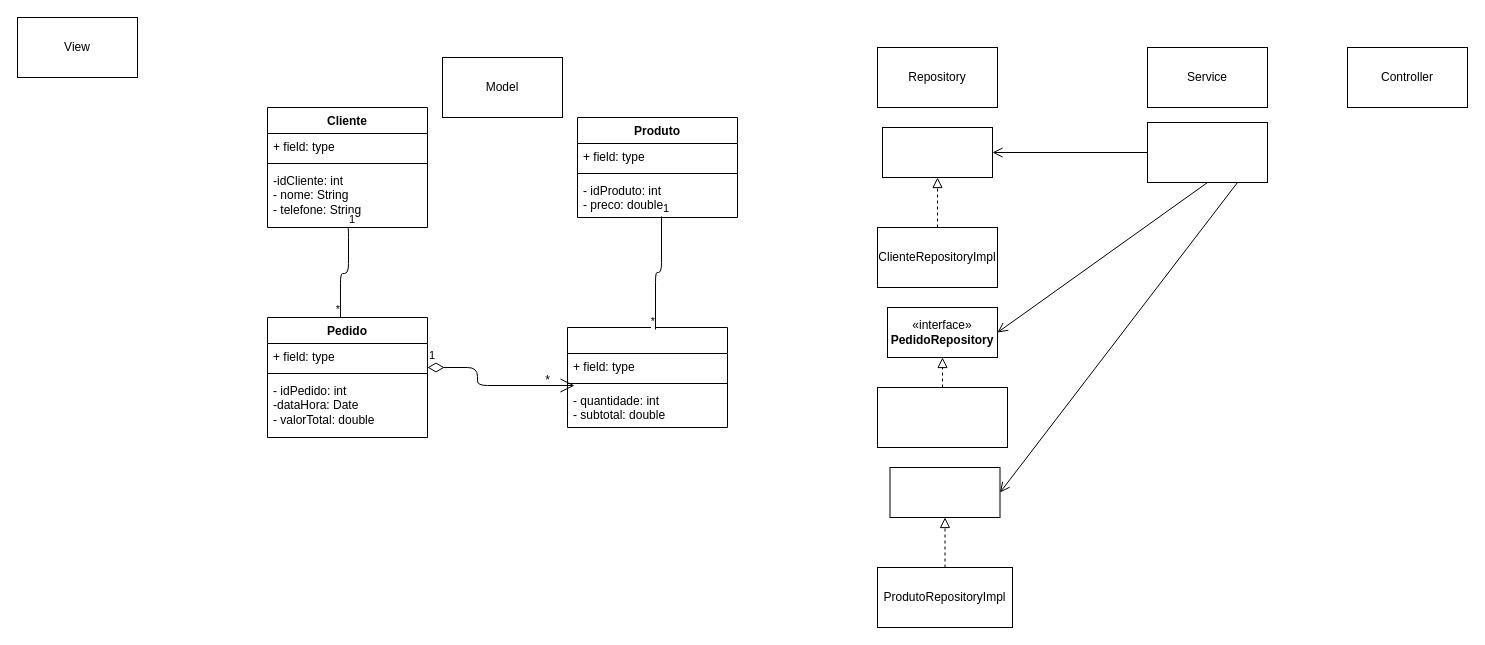
This 1485x645 diagram has some shape labels left out. Here are the shapes that lost their labels. From the top down, the box of each, then its label:
(882, 126, 992, 178): «interface» ClienteRepository
(1146, 122, 1268, 182): PedidoService
(566, 326, 728, 428): ItemPedido
(876, 386, 1008, 448): PedidoRepositoryImpl
(889, 466, 1000, 518): «interface» ProdutoRepository
